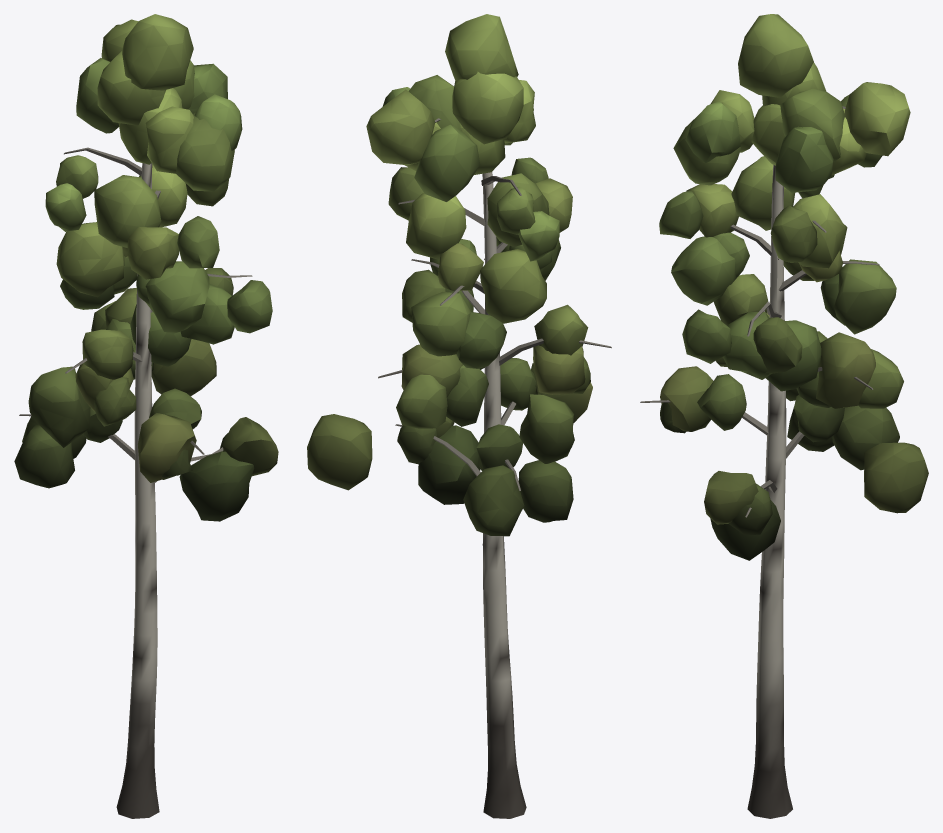
File: ph_env_birch.glb
3 renders of one model, left to right at view 1: azimuth 30°, elevation 25°; view 2: azimuth 150°, elevation 25°; view 3: azimuth 270°, elevation 25°, orthographic.
Visible parts, largest first — view 1: ph_env_birch; view 2: ph_env_birch; view 3: ph_env_birch.
Part boxes in pixels (left/top/right/bottom): ph_env_birch: left=14, top=14, right=278, bottom=818; ph_env_birch: left=307, top=14, right=611, bottom=818; ph_env_birch: left=640, top=14, right=928, bottom=818.
Size of the model in its own units: 2.26 by 7.55 by 2.46.
